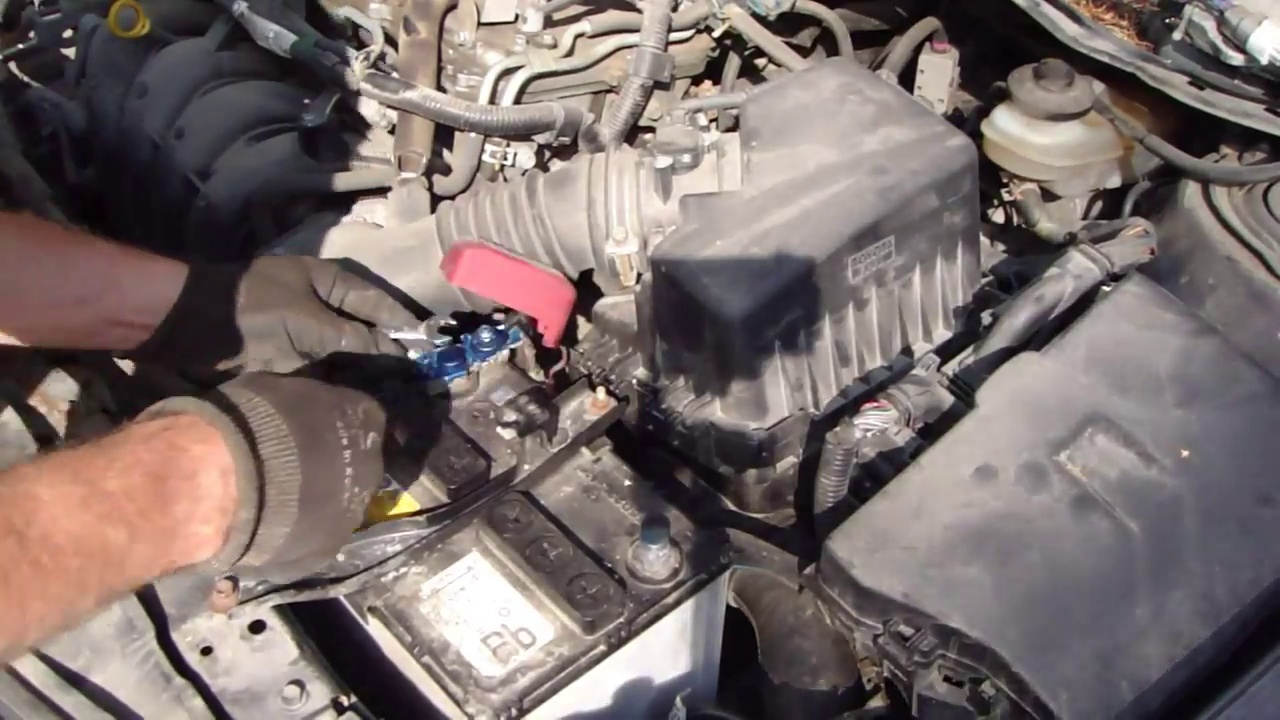battery: (246, 320, 721, 695)
neg_disconnected: (601, 508, 712, 602)
pos_touched: (284, 243, 569, 434)
